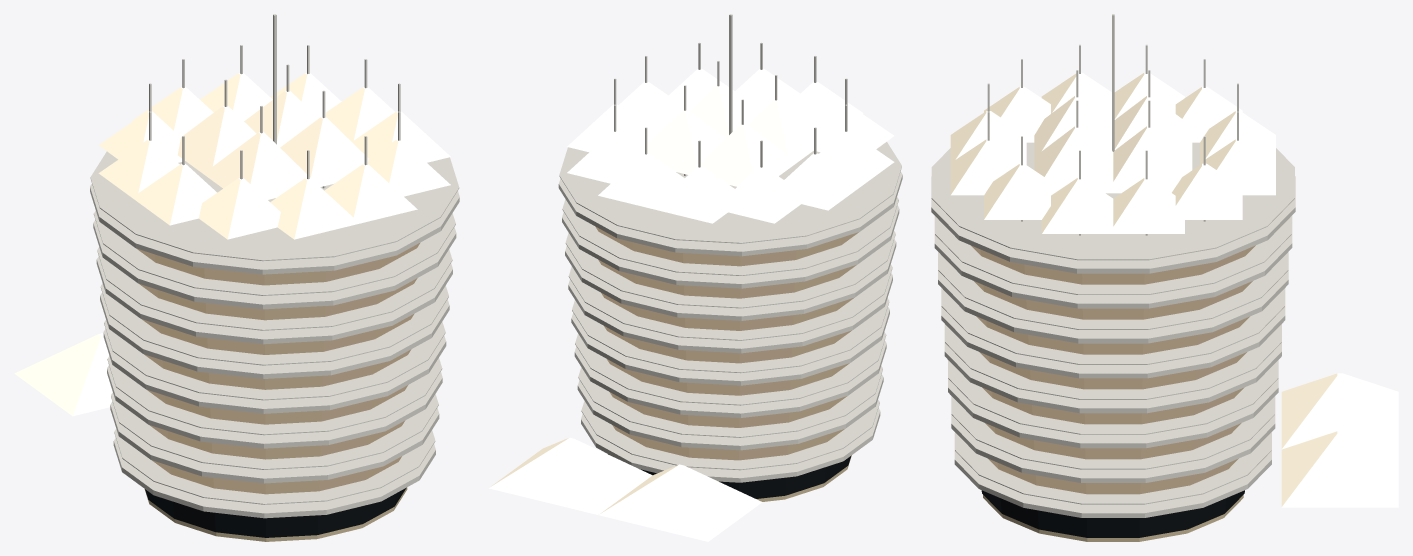
The model's file is bh_tower.glb.
3 renders of one model, left to right at view 1: azimuth 30°, elevation 25°; view 2: azimuth 150°, elevation 25°; view 3: azimuth 270°, elevation 25°, orthographic. The views are drawn at different scales.
Parts seen in each view (by area): view 1: bahrain-sakhir-tower; view 2: bahrain-sakhir-tower; view 3: bahrain-sakhir-tower.
Part boxes in pixels (bbox=[...]): bahrain-sakhir-tower: bbox=[14, 14, 459, 541]; bahrain-sakhir-tower: bbox=[489, 14, 902, 541]; bahrain-sakhir-tower: bbox=[931, 14, 1398, 541].
Bounding box in the file's own units: 37.27 × 53.3 × 47.83.
